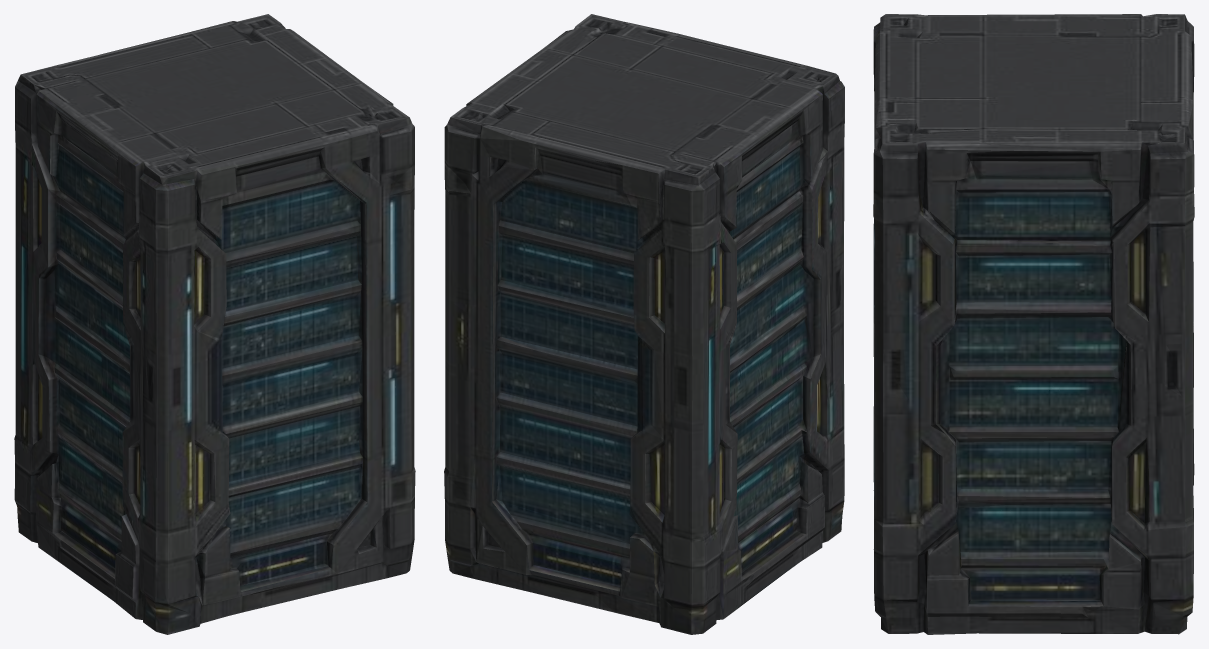
The model's file is kit4-mid.glb.
3 views of the same model, side by side, from view 1: azimuth 30°, elevation 25°; view 2: azimuth 150°, elevation 25°; view 3: azimuth 270°, elevation 25° (orthographic). The views are drawn at different scales.
Parts seen in each view (by area): view 1: Mesh_0.001; view 2: Mesh_0.001; view 3: Mesh_0.001.
Part boxes in pixels (x1,y1,x2,y2): Mesh_0.001: (14, 14, 415, 634); Mesh_0.001: (444, 14, 844, 634); Mesh_0.001: (873, 14, 1194, 634).
Size of the model in its own units: 0.9992 by 1.66 by 0.9891.
Materials: 1 (1 with a texture image).
